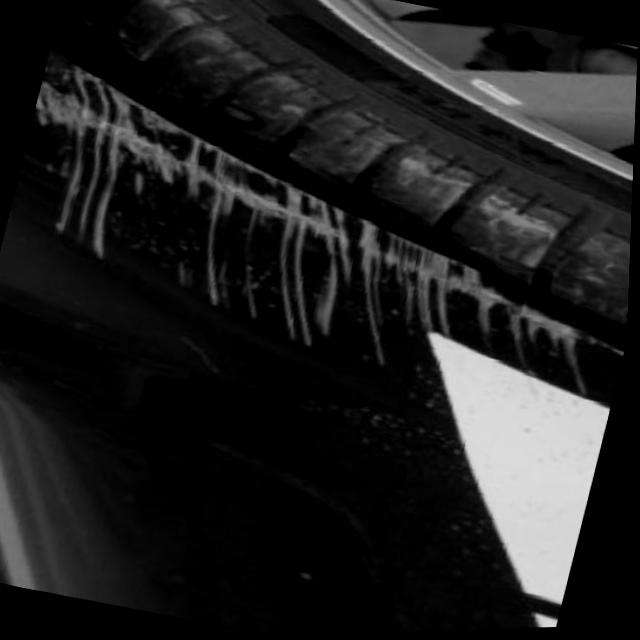Scratch: (9, 49, 627, 419)
